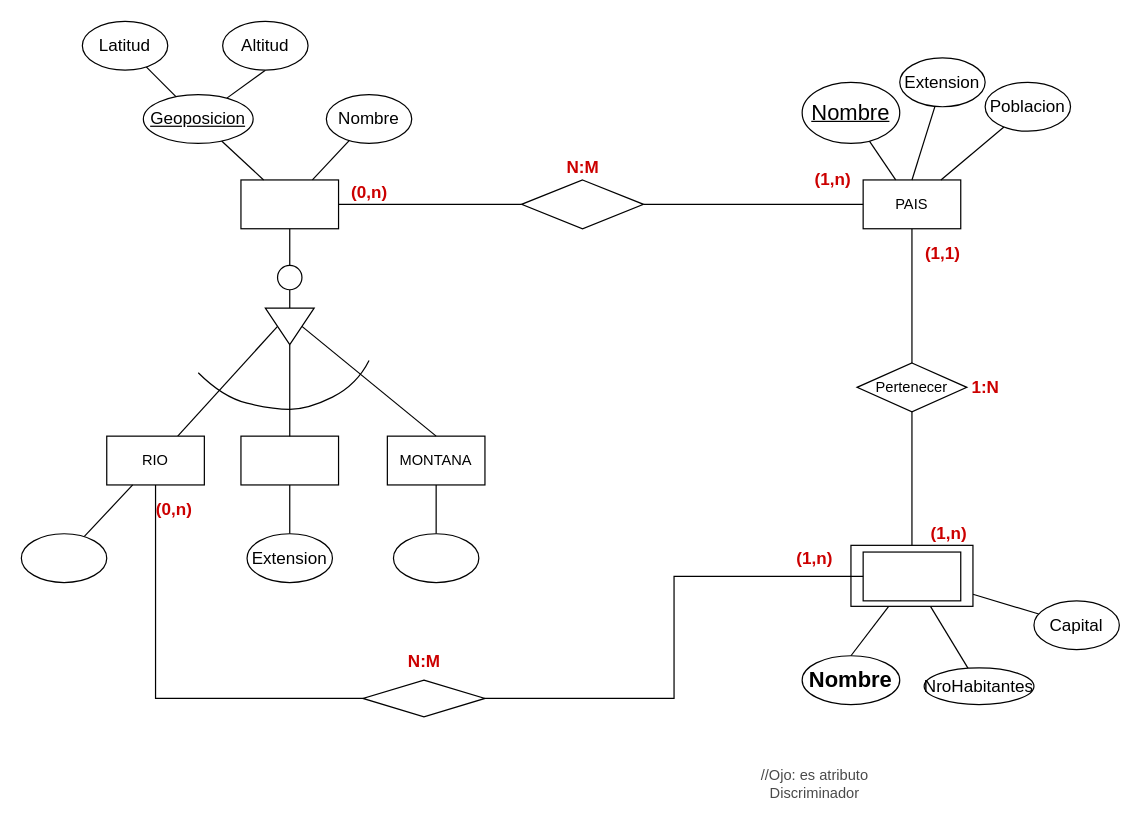
This 1141x824 diagram has some shape labels left out. Here are the shapes that lost their labels. From the top down, the box of each, then its label:
(240, 179, 339, 229): ACCIDENTE
(520, 179, 644, 229): Estar
(240, 435, 339, 485): LAGO
(20, 533, 107, 583): Longitud
(392, 533, 479, 583): Altura
(862, 551, 961, 601): LOCALIDAD
(362, 679, 485, 717): Pasar
